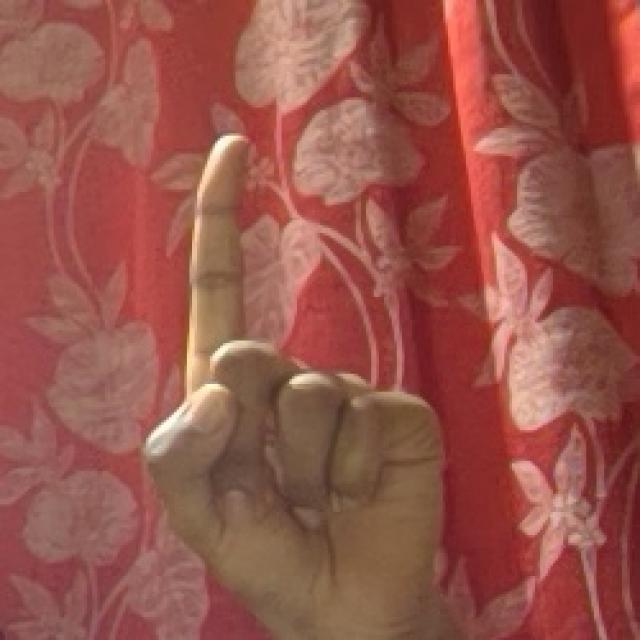Numeric-1: (142, 135, 438, 618)
